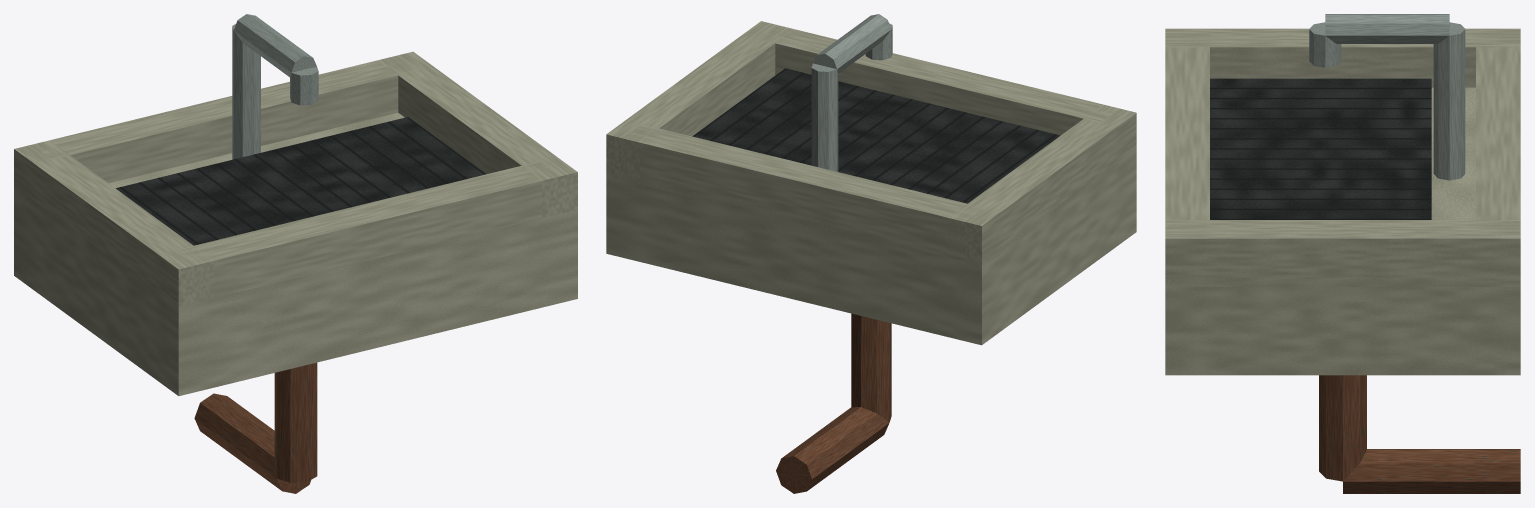
Rendered from WallSink.glb.
The picture shows the model from 3 angles, left to right: view 1: azimuth 30°, elevation 25°; view 2: azimuth 150°, elevation 25°; view 3: azimuth 270°, elevation 25°; orthographic projection. The views are drawn at different scales.
Visible parts, largest first — view 1: WallSink; view 2: WallSink; view 3: WallSink.
Part boxes in pixels (<box>): WallSink: <box>14,14,577,493</box>; WallSink: <box>606,14,1136,493</box>; WallSink: <box>1165,14,1520,493</box>.
Bounding box in the file's own units: 0.56 × 0.595 × 0.4.
Materials: 4 (4 with a texture image).
